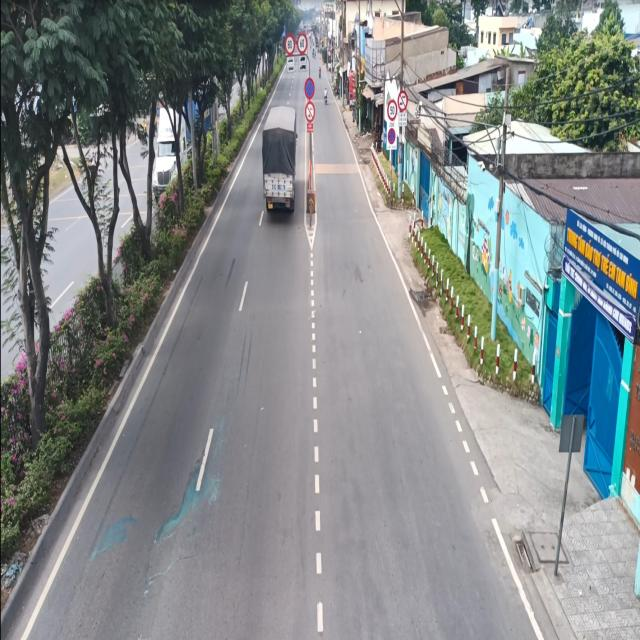truck: (262, 90, 300, 230)
